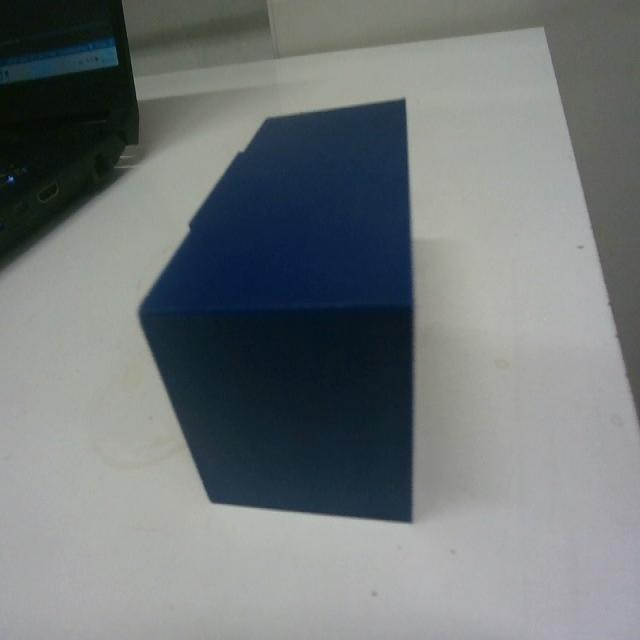Blue Cuboid: (137, 93, 420, 524)
